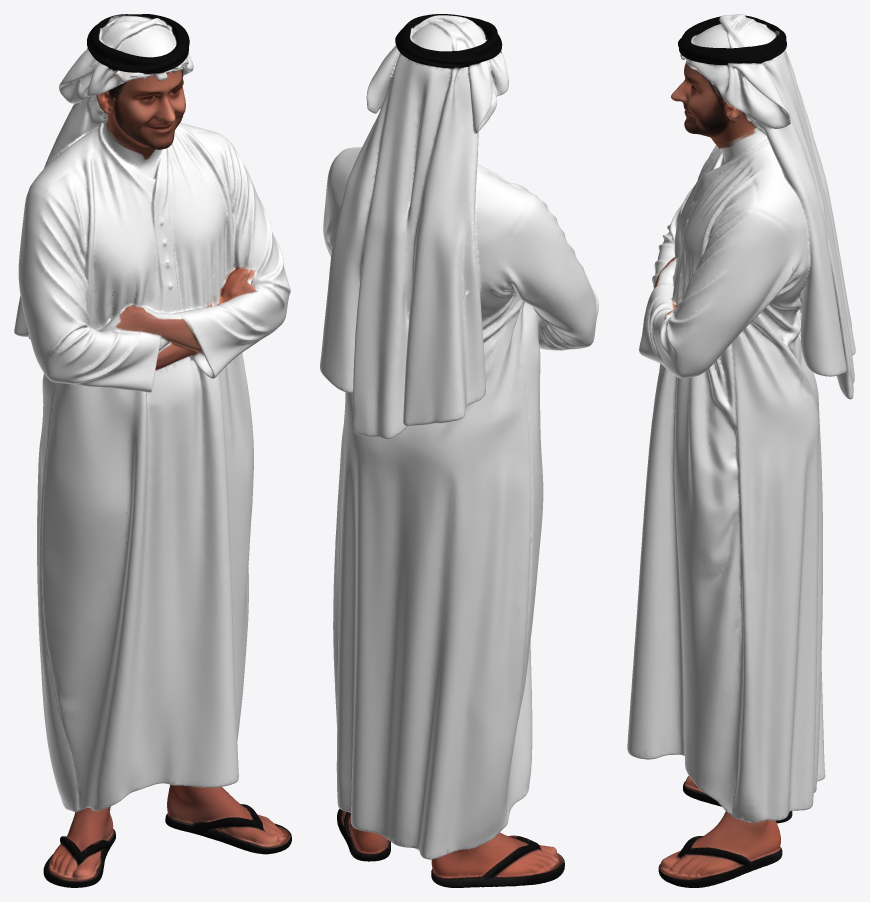
File: arabic_man.glb
The picture shows the model from 3 angles, left to right: view 1: azimuth 30°, elevation 25°; view 2: azimuth 150°, elevation 25°; view 3: azimuth 270°, elevation 25°; orthographic projection. The views are drawn at different scales.
Parts seen in each view (by area): view 1: Object_4, Object_6, Object_5; view 2: Object_5, Object_4, Object_6; view 3: Object_4, Object_5, Object_6.
Boxes of the visible parts, x1=… form: Object_4: x1=26, y1=14, x2=290, y2=887; Object_6: x1=23, y1=22, x2=291, y2=887; Object_5: x1=14, y1=14, x2=278, y2=857; Object_5: x1=320, y1=15, x2=580, y2=887; Object_4: x1=327, y1=15, x2=598, y2=887; Object_6: x1=337, y1=14, x2=598, y2=869; Object_4: x1=627, y1=15, x2=854, y2=887; Object_5: x1=695, y1=14, x2=855, y2=879; Object_6: x1=665, y1=15, x2=739, y2=887.
Size of the model in its own units: 0.5927 by 1.9 by 0.4866.
1 material, 1 textured.
